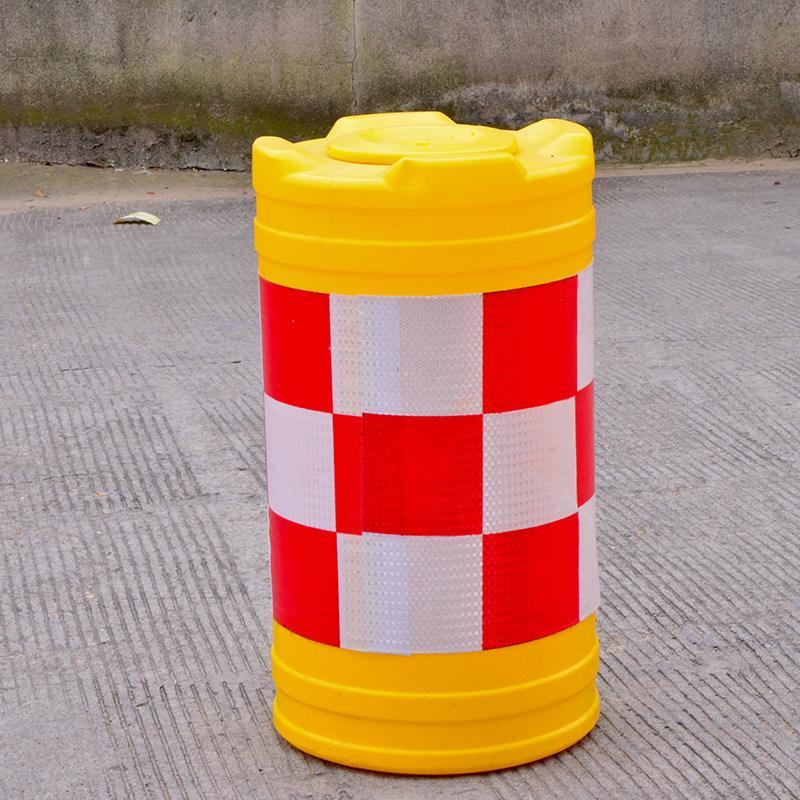sign: (238, 97, 629, 776)
